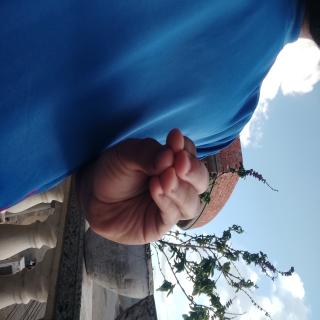HA: (94, 146, 190, 312)
